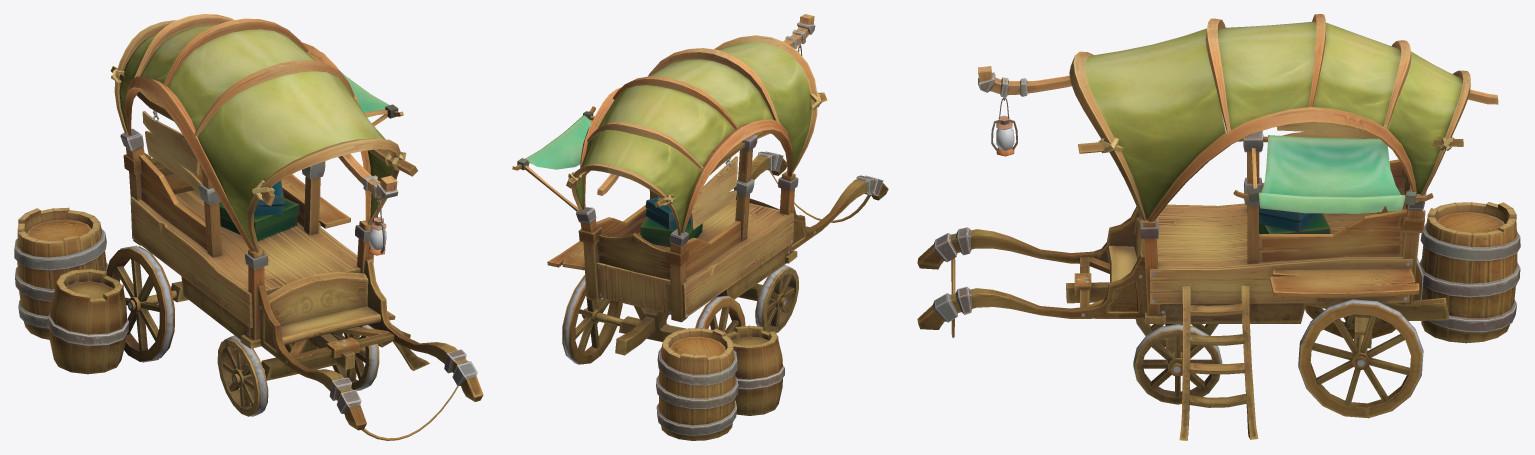
The model's file is Carreta.fbx.
The picture shows the model from 3 angles, left to right: view 1: azimuth 30°, elevation 25°; view 2: azimuth 150°, elevation 25°; view 3: azimuth 270°, elevation 25°; orthographic projection. The views are drawn at different scales.
Visible parts, largest first — view 1: Trade_cart, Trade_cart.002, Trade_cart.001, Trade_cart.004; view 2: Trade_cart, Trade_cart.002, Trade_cart.001, Trade_cart.004; view 3: Trade_cart, Trade_cart.002, Trade_cart.001, Trade_cart.004.
Boxes of the visible parts, <box> form: Trade_cart: <box>14,52,483,440</box>; Trade_cart.002: <box>119,24,393,245</box>; Trade_cart.001: <box>114,14,401,253</box>; Trade_cart.004: <box>125,42,371,251</box>; Trade_cart: <box>512,14,888,440</box>; Trade_cart.002: <box>575,41,811,232</box>; Trade_cart.001: <box>571,35,817,235</box>; Trade_cart.004: <box>580,87,792,233</box>; Trade_cart: <box>917,66,1520,440</box>; Trade_cart.002: <box>1085,21,1462,220</box>; Trade_cart.001: <box>1069,14,1470,220</box>; Trade_cart.004: <box>1147,107,1416,222</box>.
Size of the model in its own units: 614 by 675 by 1047.
